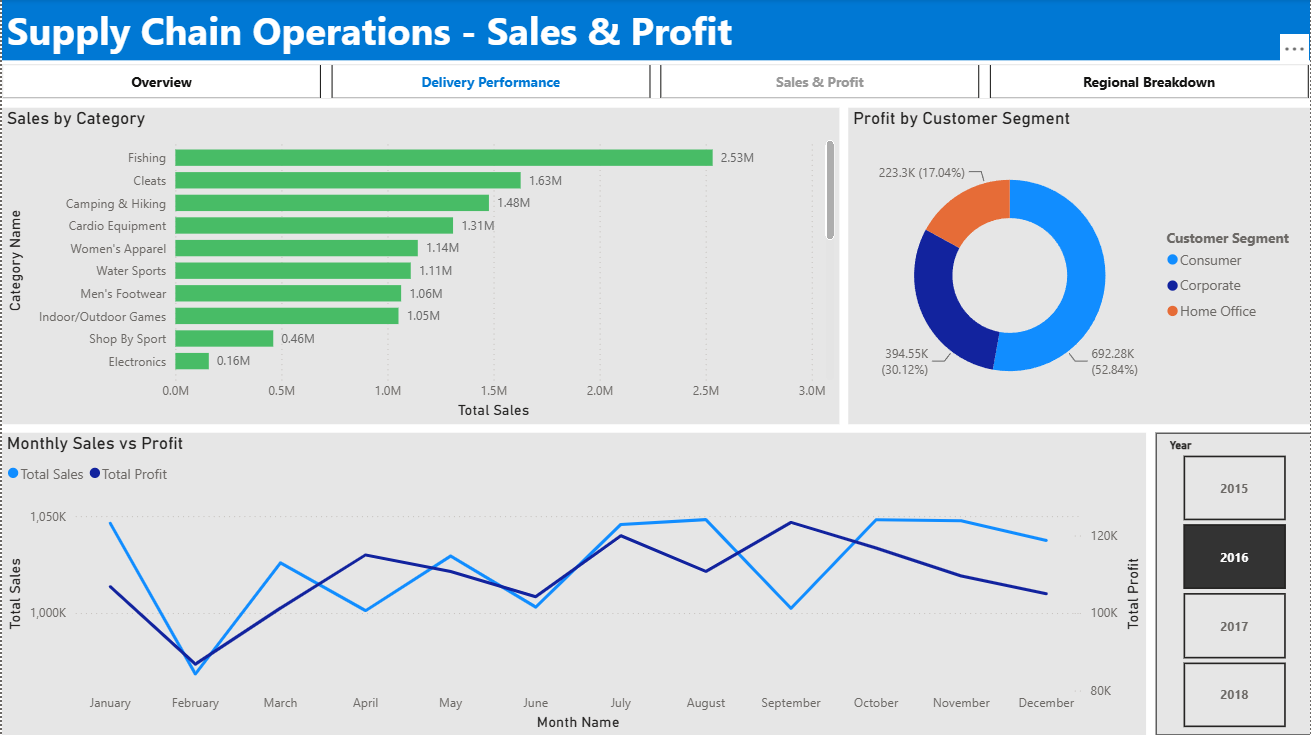

What the dashboard file says about the page in this screenshot:
{"tool":"powerbi","page":{"name":"Sales & Profit","canvas":[1280,720],"ordinal":2},"visuals":[{"type":"clusteredBarChart","title":"Sales by Category","fields":{"Y":["_Measures.Total Sales"],"Category":["DataCoSupplyChainDataset.Category Name"]},"box":[0,106.4,819.3,309.4],"z":0},{"type":"donutChart","title":"Profit by Customer Segment","fields":{"Category":["DataCoSupplyChainDataset.Customer Segment"],"Y":["_Measures.Total Profit"]},"box":[827.9,106.4,452.4,309.4],"z":1000},{"type":"lineChart","title":"Monthly Sales vs Profit","fields":{"Y":["_Measures.Total Sales"],"Y2":["_Measures.Total Profit"],"Category":["Date Table.Month Name"]},"box":[0,424.3,1118.9,295.9],"z":2000},{"type":"slicer","fields":{"Values":["Date Table.Year"]},"box":[1128.7,424.3,151.6,295.9],"z":3000},{"type":"textbox","box":[0,0,1280.3,60],"z":4000},{"type":"pageNavigator","box":[0,63.6,1280.3,34.2],"z":5000}]}

Visuals, with their boxes in screenshot pixels (x1, y1, x2, y2), scaled from the page's 1280x720 canvas onto the 1311x735 screenshot:
"Sales by Category" clusteredBarChart: [x1=0, y1=109, x2=839, y2=424]
"Profit by Customer Segment" donutChart: [x1=848, y1=109, x2=1310, y2=424]
"Monthly Sales vs Profit" lineChart: [x1=0, y1=433, x2=1146, y2=734]
slicer - Date Table.Year: [x1=1156, y1=433, x2=1310, y2=734]
textbox: [x1=0, y1=0, x2=1310, y2=61]
pageNavigator: [x1=0, y1=65, x2=1310, y2=100]
